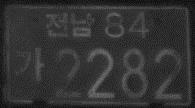2: (153, 47, 183, 101), (85, 47, 116, 99), (52, 47, 82, 98)
4: (127, 11, 150, 38)
8: (121, 47, 149, 99), (104, 11, 125, 38)
가: (13, 46, 45, 81)
전남_O: (45, 11, 95, 37)
